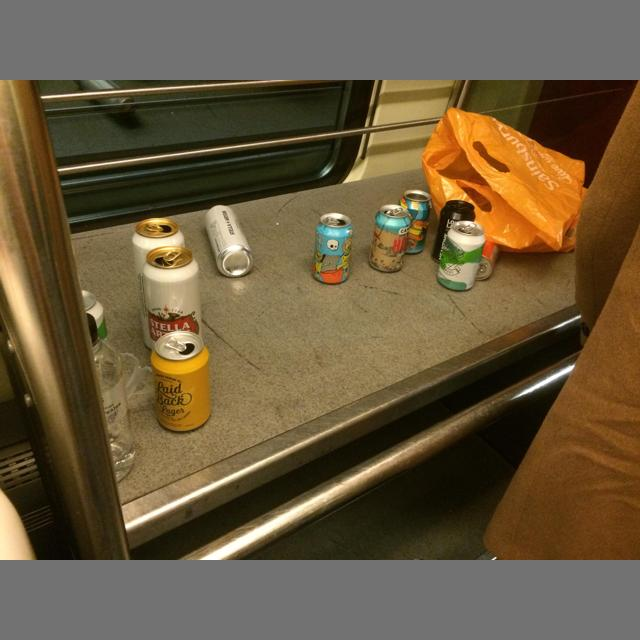litter: (422, 107, 588, 253), (86, 312, 136, 482), (132, 218, 185, 349), (142, 246, 203, 349), (151, 330, 211, 431), (204, 205, 253, 278), (437, 221, 485, 290), (369, 204, 411, 272), (313, 213, 353, 284), (431, 200, 476, 263), (398, 190, 433, 253), (81, 289, 109, 342), (475, 241, 500, 280), (165, 336, 186, 352), (163, 248, 182, 261), (463, 223, 477, 233), (145, 224, 164, 231), (390, 208, 403, 215), (478, 263, 487, 273), (326, 217, 340, 223)
